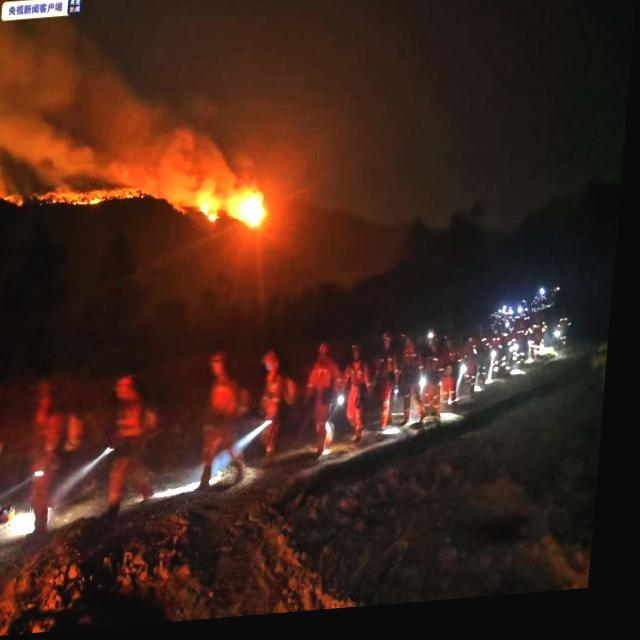Fire: (197, 183, 273, 236)
